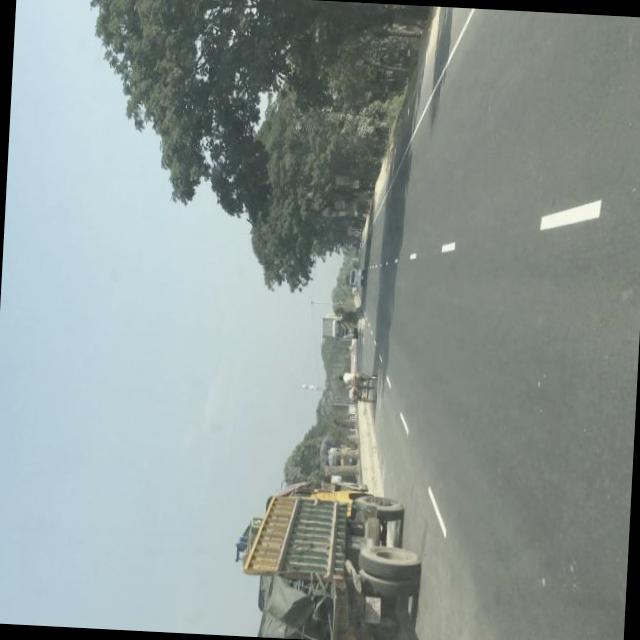car: (347, 262, 365, 286)
truck: (225, 469, 424, 640), (318, 311, 358, 338), (328, 444, 356, 467)
